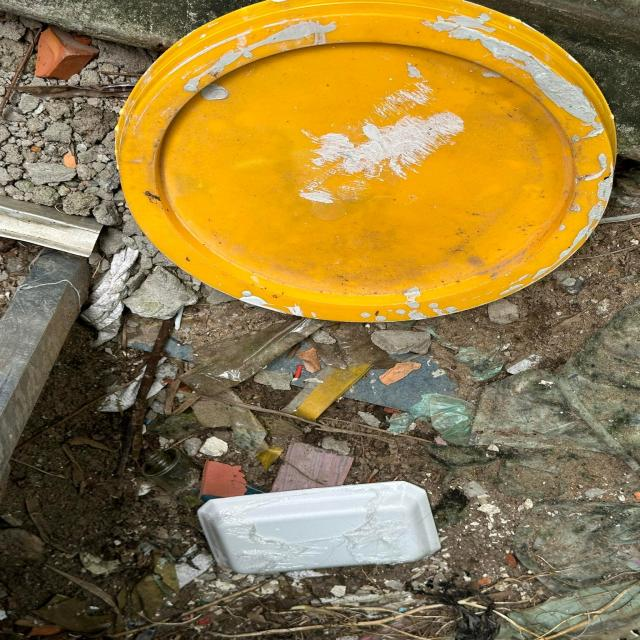foam box: (197, 480, 442, 574)
